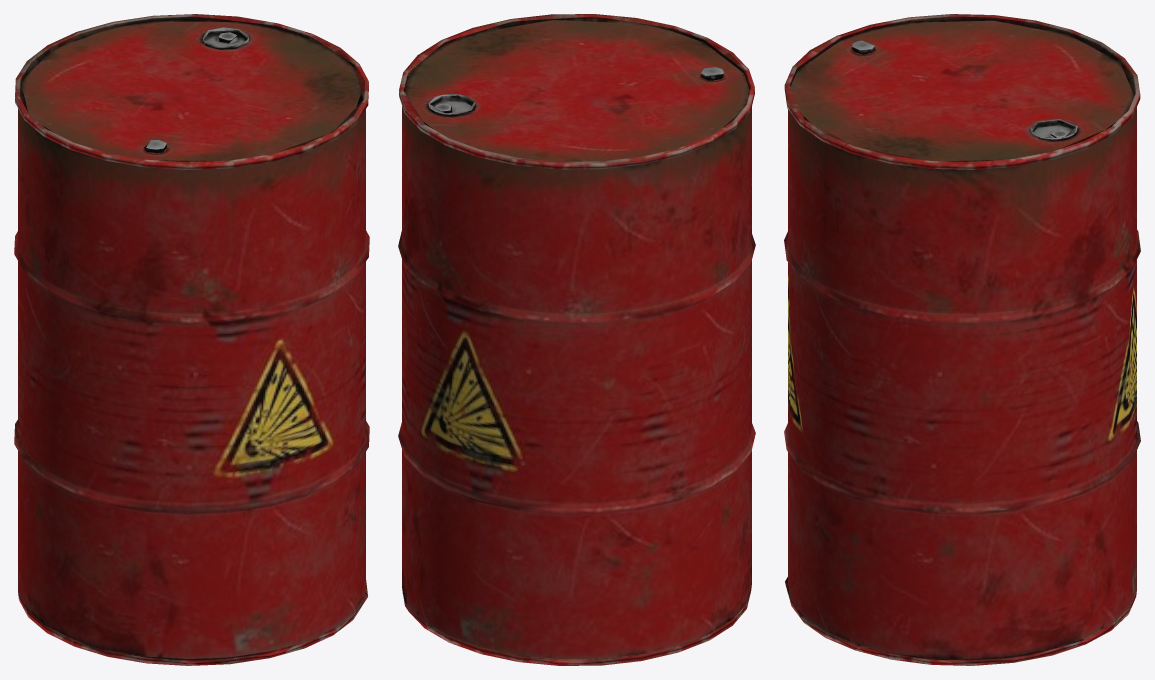
The model's file is barrel_red.glb.
3 views of the same model, side by side, from view 1: azimuth 30°, elevation 25°; view 2: azimuth 150°, elevation 25°; view 3: azimuth 270°, elevation 25° (orthographic).
Parts seen in each view (by area): view 1: Barrel_01; view 2: Barrel_01; view 3: Barrel_01.
Part boxes in pixels (x1,y1,x2,y2): Barrel_01: (14,14,369,665); Barrel_01: (398,14,755,665); Barrel_01: (784,14,1140,665).
Bounding box in the file's own units: 0.5627 × 0.88 × 0.5627.
Materials: 1 (1 with a texture image).
